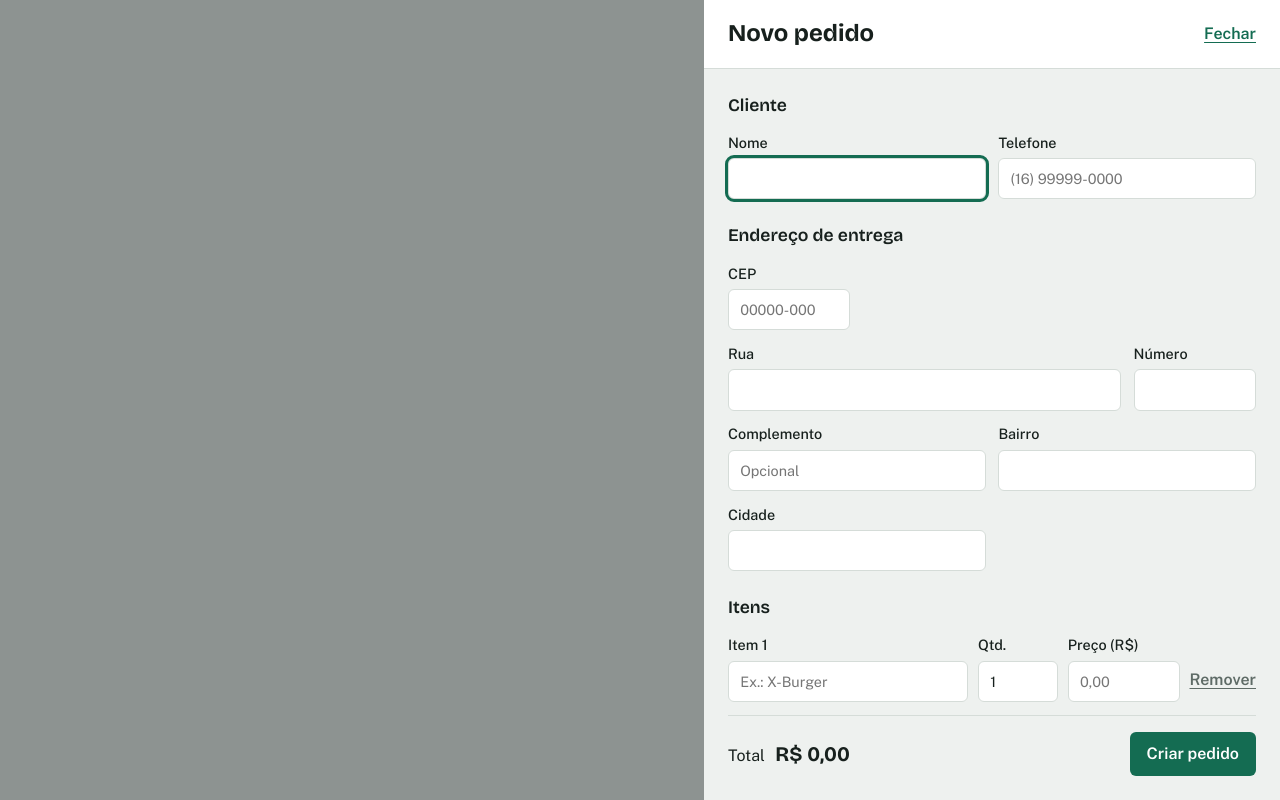
Scenario: NewOrderPanel › colar "25,9" no preço dá R$ 25,90
The width and height of the screenshot is (1280, 800).
Click the field labelled "Preço (R$)".
click(1124, 681)  # box [1068,661,1180,702]
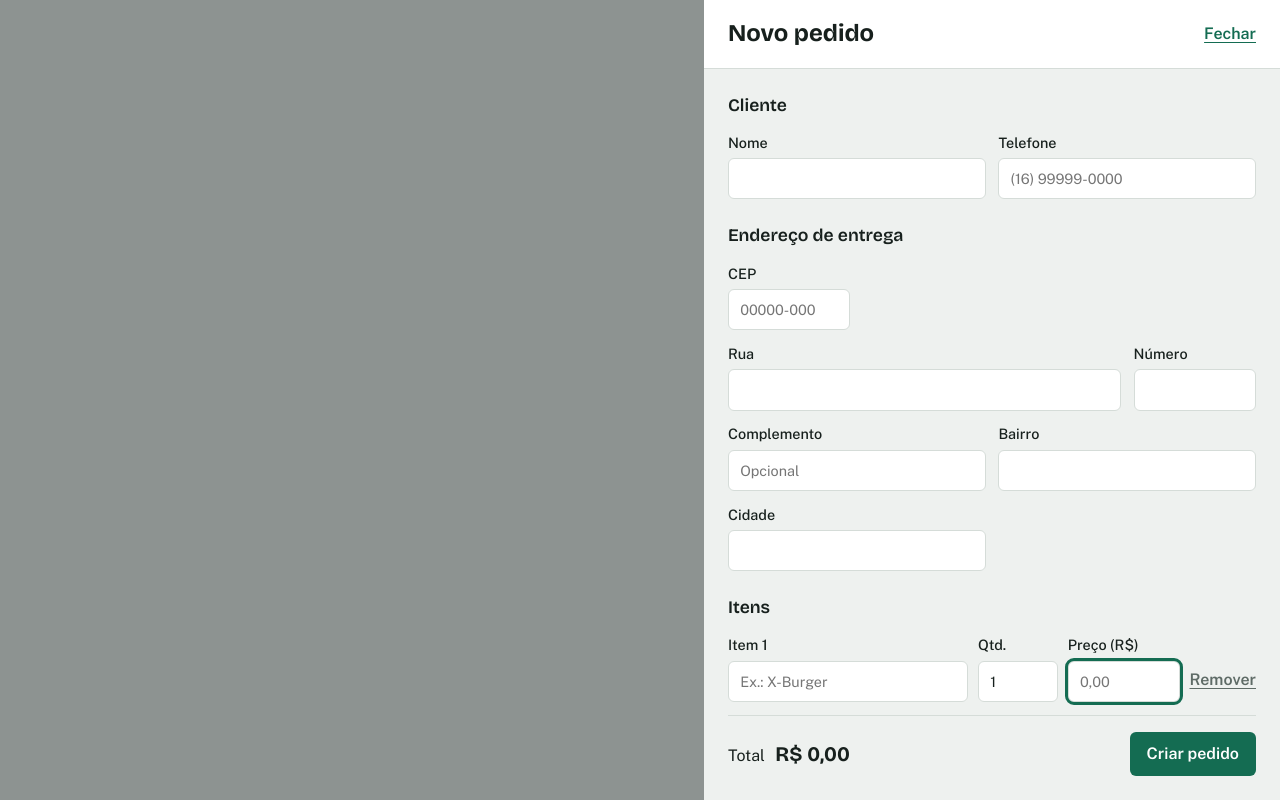
Type keys "25,9"
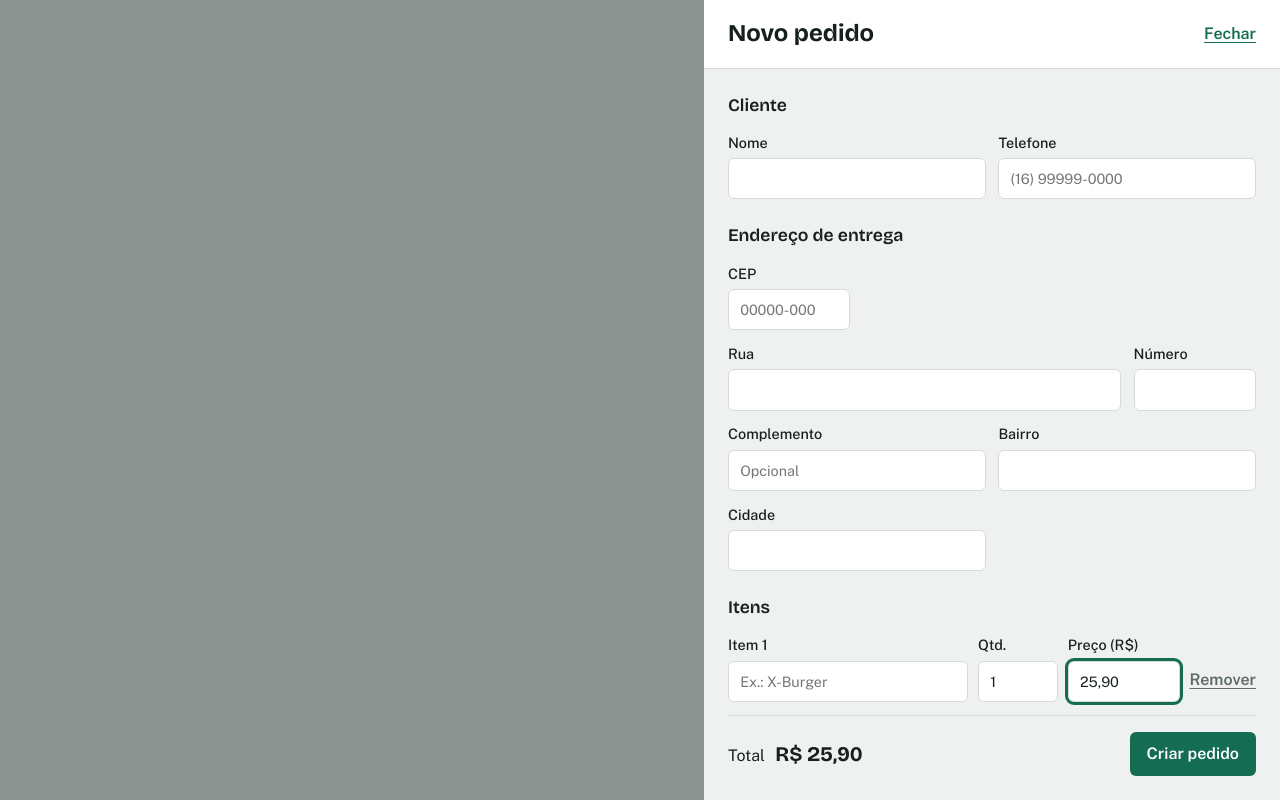
Expected: the field labelled "Preço (R$)" holds "25,90", [1068,661,1180,702]
